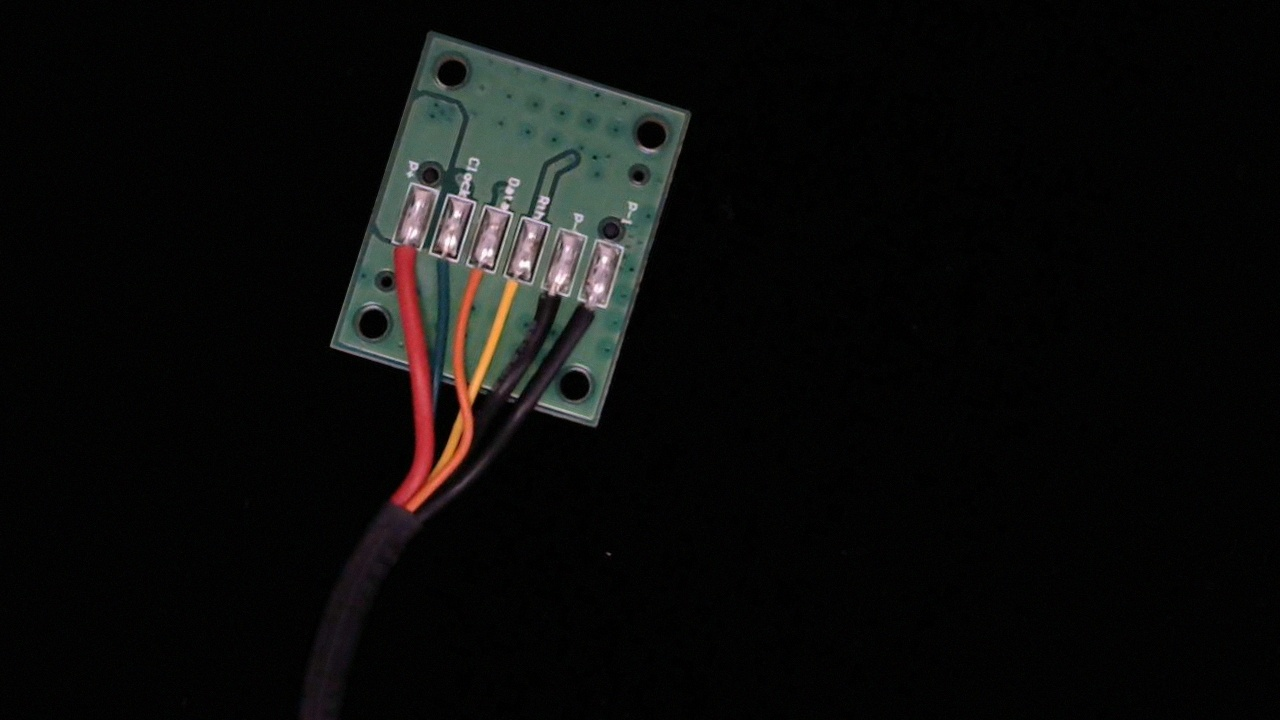Black: (525, 270, 574, 343)
Black1: (566, 282, 611, 348)
Green: (414, 236, 461, 303)
Orange: (452, 248, 498, 316)
Red: (375, 229, 426, 304)
Yellow: (489, 258, 536, 333)
